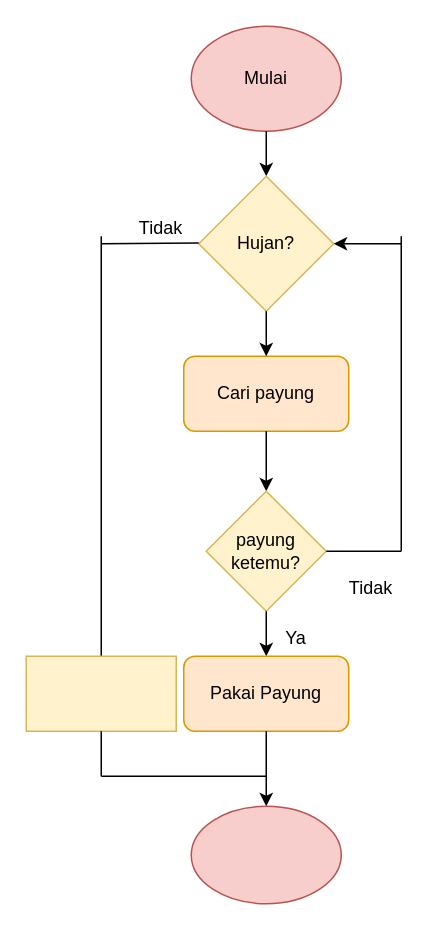
This 443x930 diagram has some shape labels left out. The shapes that lost their labels are listed below. From the top down, each one's centre as x and y in pixels, then its label:
[100,693]: Tidak Perlu Bawa payung
[265,854]: Selesai
